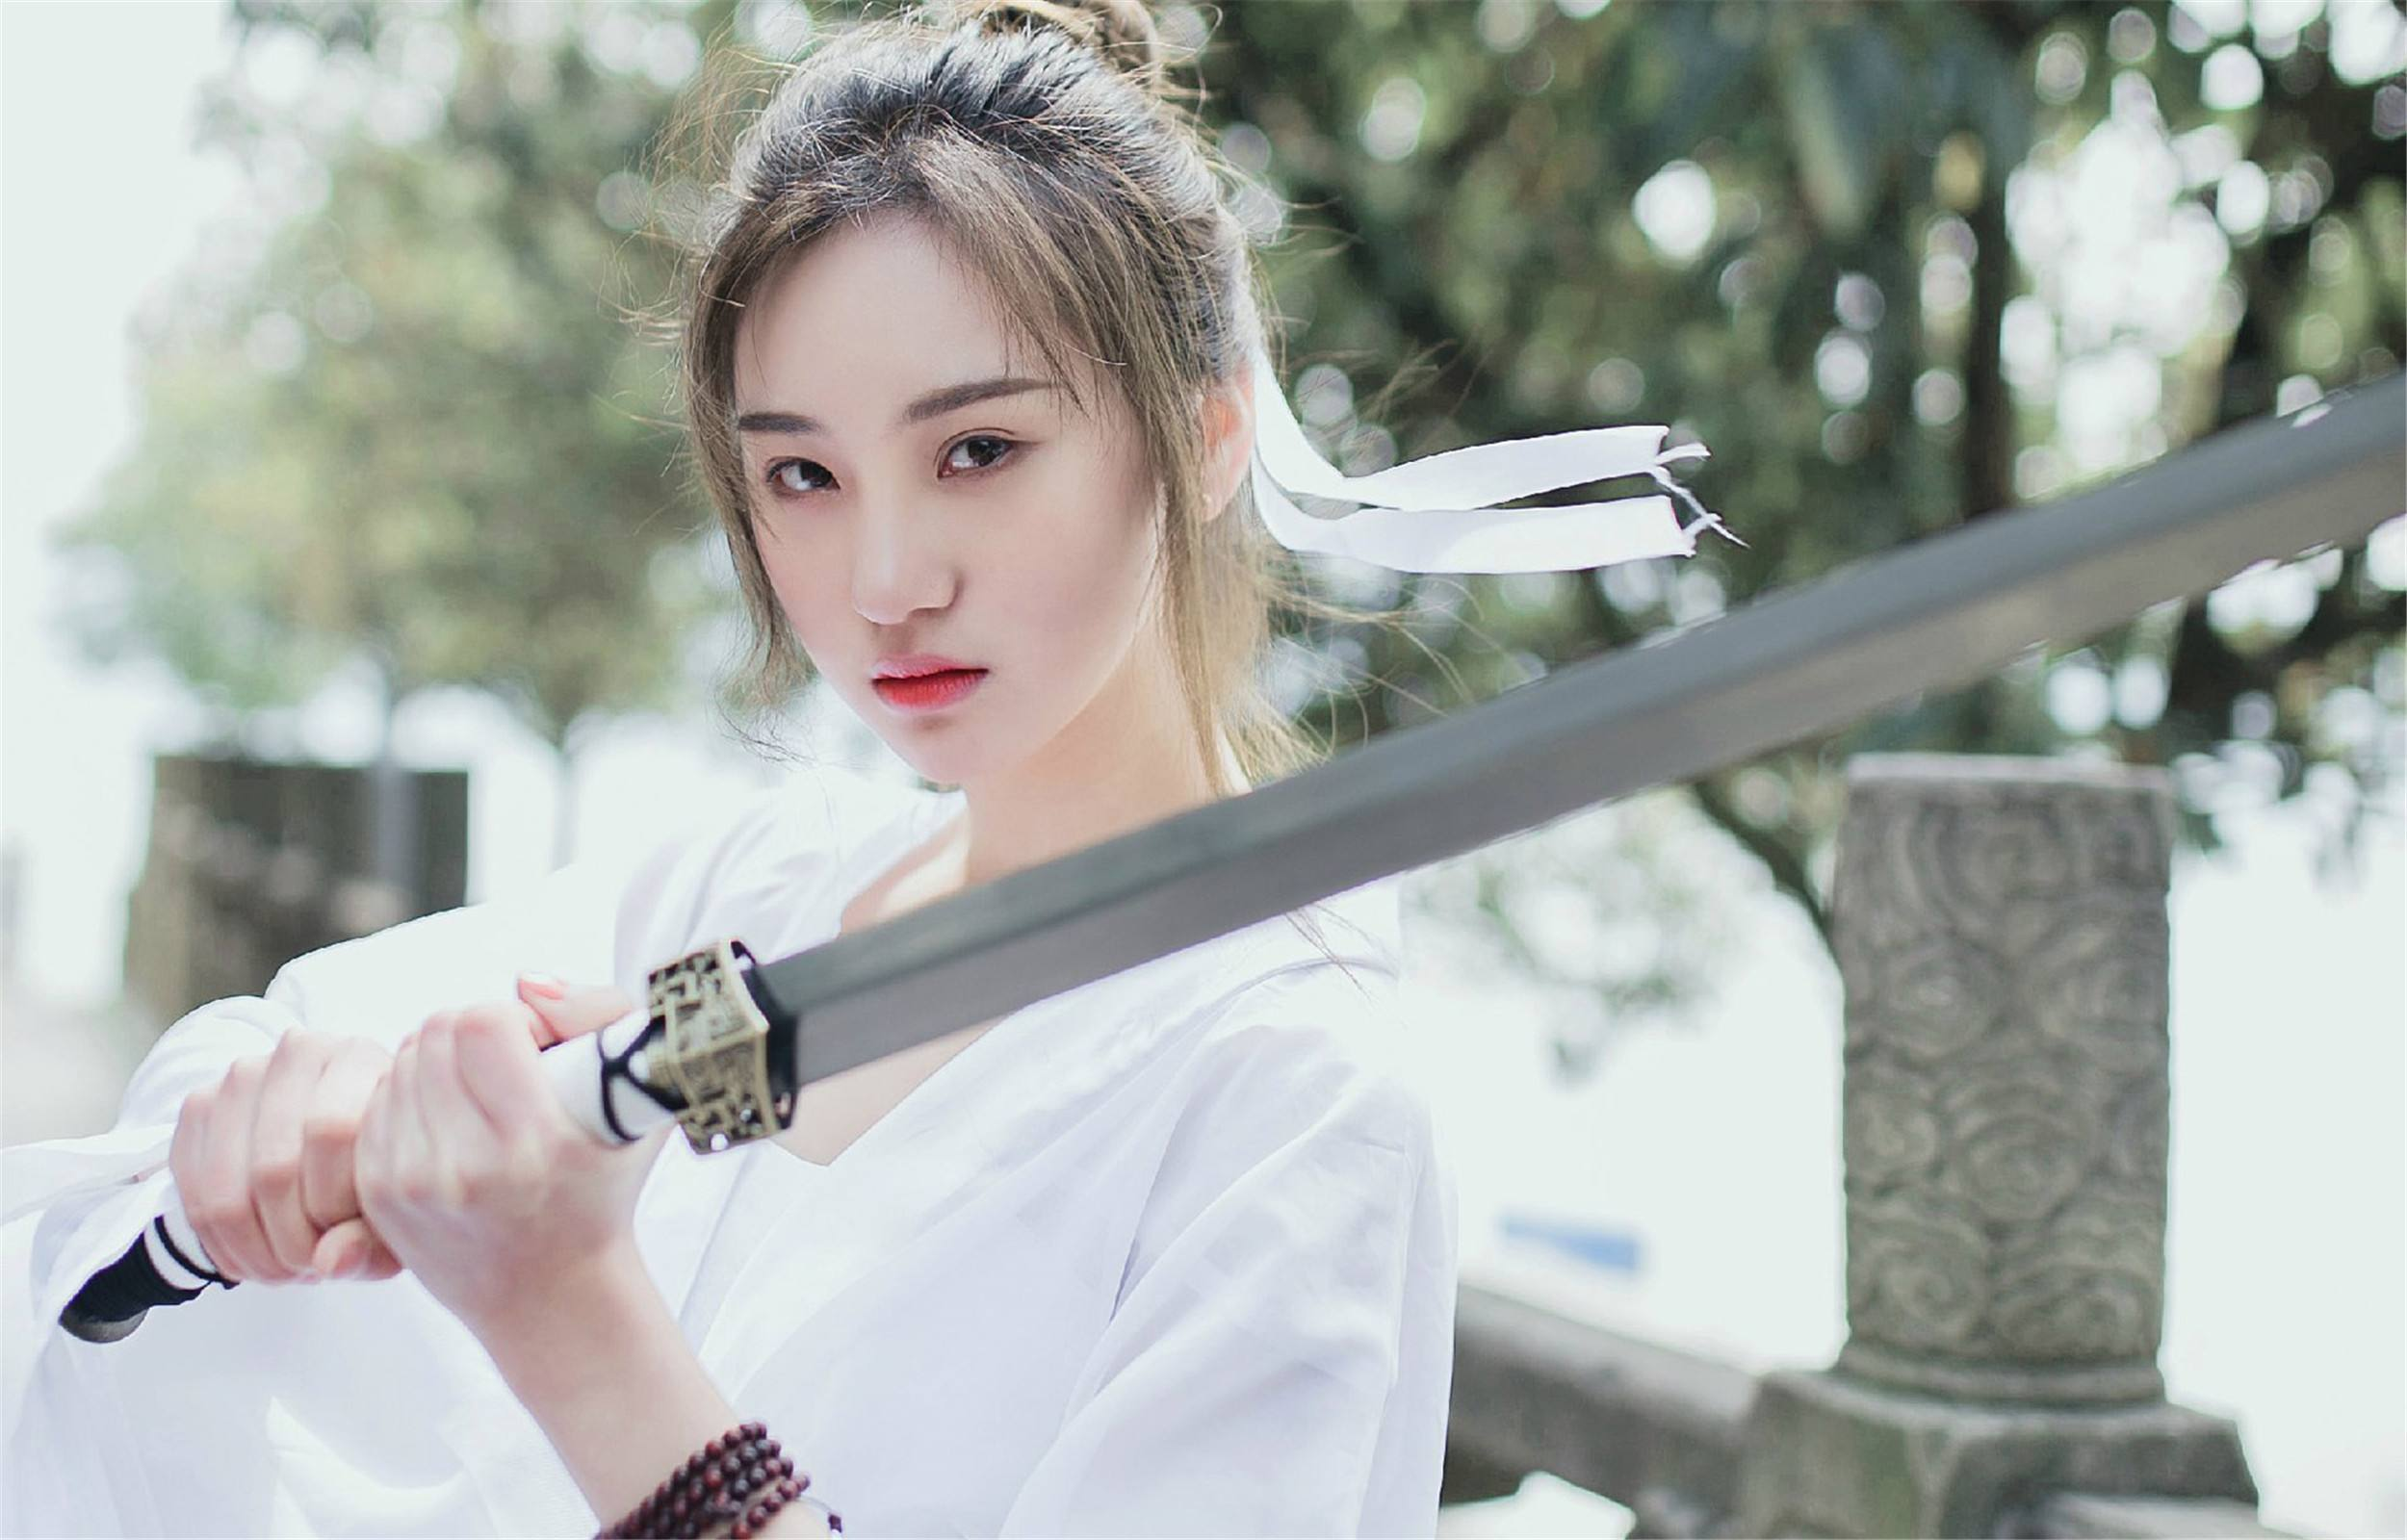person: (693, 90, 1484, 1463)
